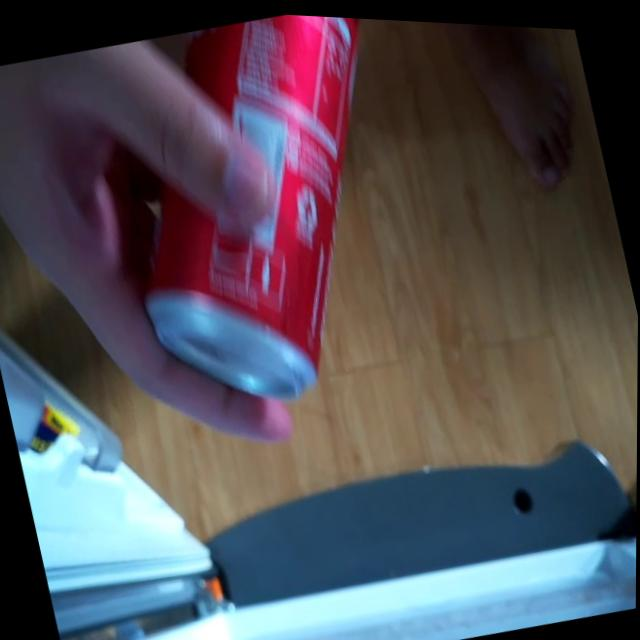coke: (77, 3, 449, 439)
